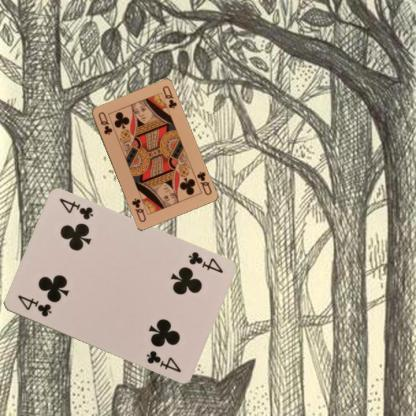4c: (15, 292, 53, 318), (185, 249, 224, 274)
Qc: (194, 169, 213, 196), (96, 109, 113, 136)
